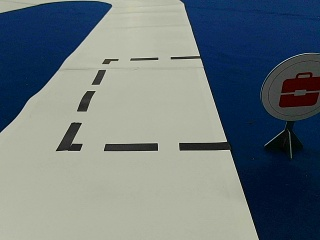company: (261, 53, 319, 120)
